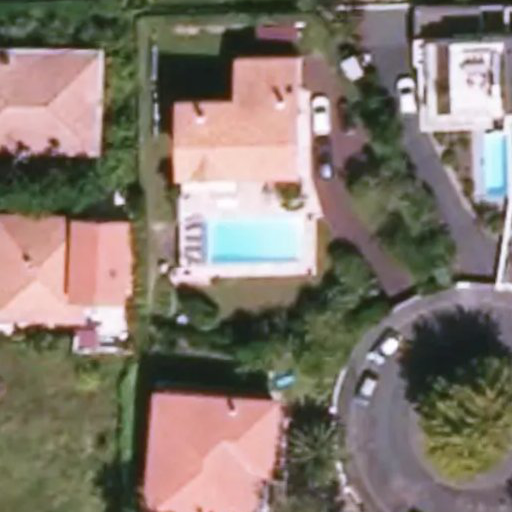pool: (209, 219, 302, 265)
